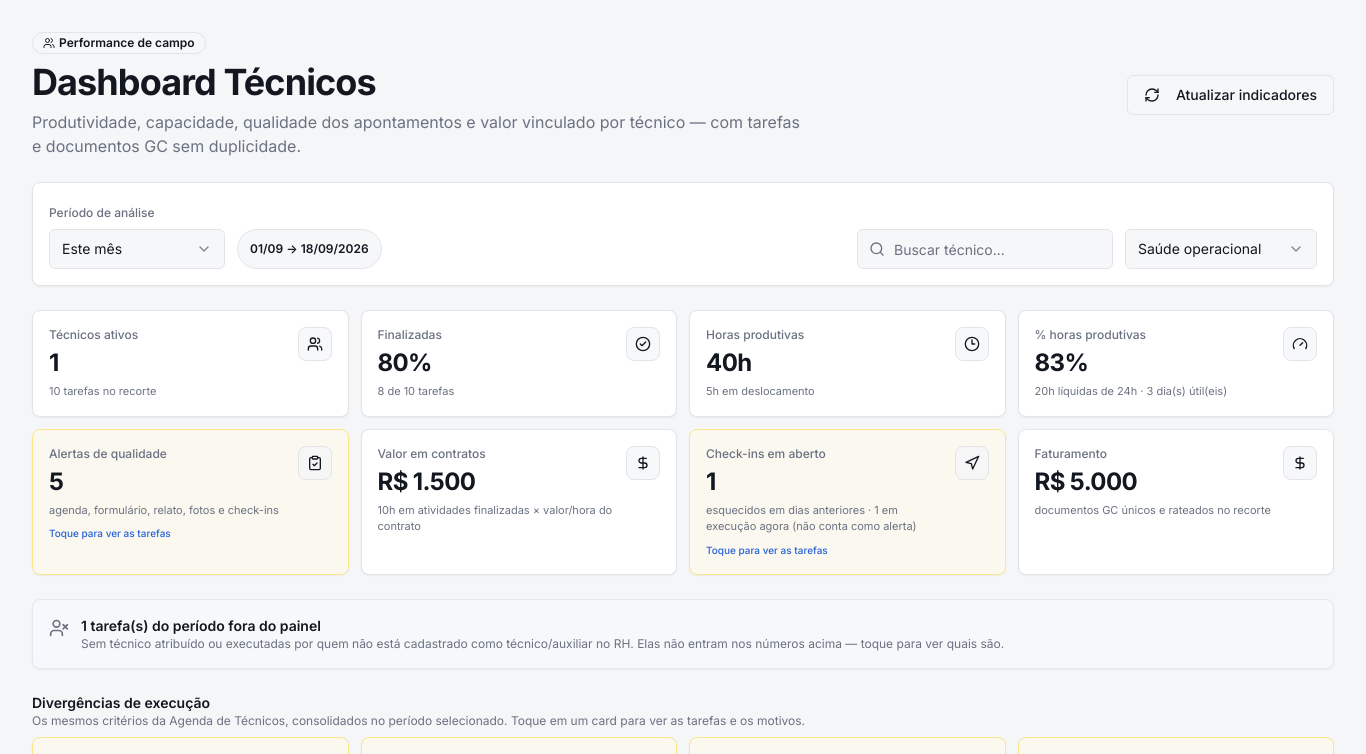
Test: TechDashboardPage › lists tasks outside the dashboard with the reason when the notice is clicked
Click the text "1 tarefa(s) do período fora do painel".
click(201, 625)  # box [81,616,321,634]
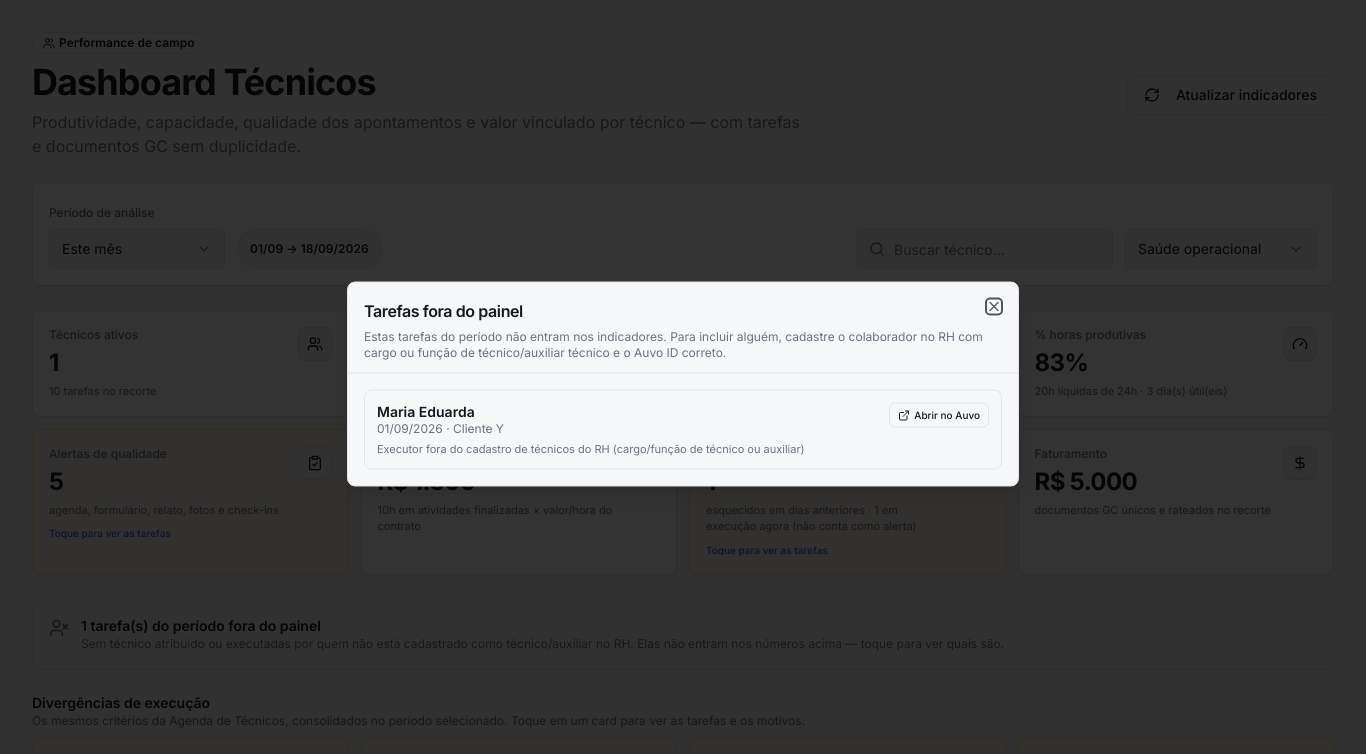
expect the heading "Tarefas fora do painel" is shown: met, box [364,300,523,320]
expect the text "Maria Eduarda" is shown: met, box [377,402,475,420]
expect the text "Executor fora do cadastro de técnicos do RH" is shown: met, box [377,441,805,455]
